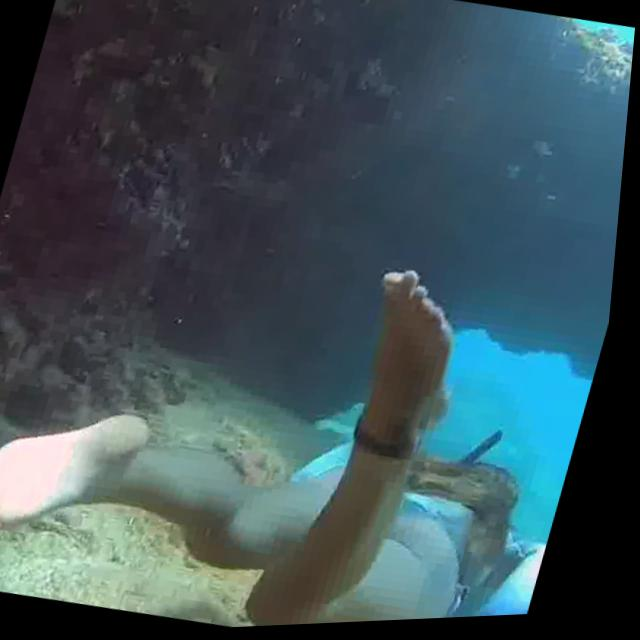human: (0, 175, 626, 640)
